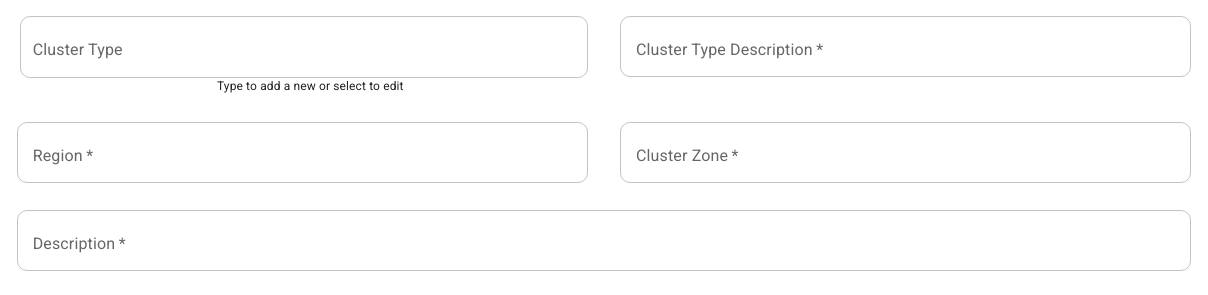
Test: ClustersForm Component › handles AutoCompleteSelect changes and updates form fields
// Simulate selecting a cluster
Type "Cluster 1" into the dropdown at {"x": 289, "y": 59}, box top-left (29, 40), bottom-right (549, 78)
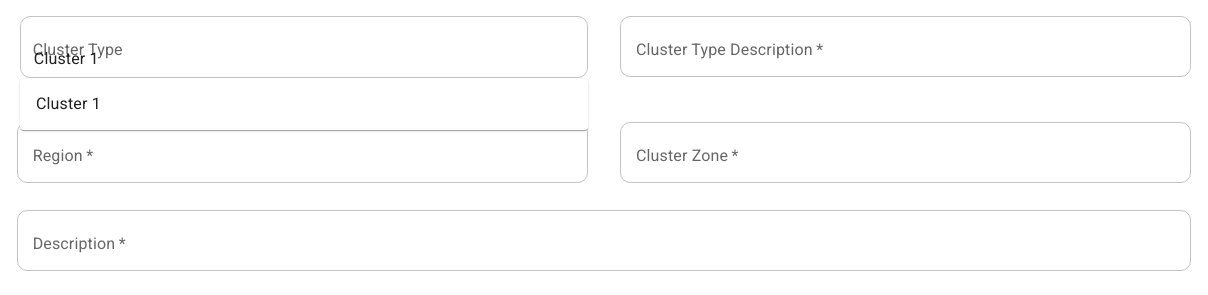
Click the option "Cluster 1" at {"x": 68, "y": 104}, box top-left (36, 94), bottom-right (101, 113)
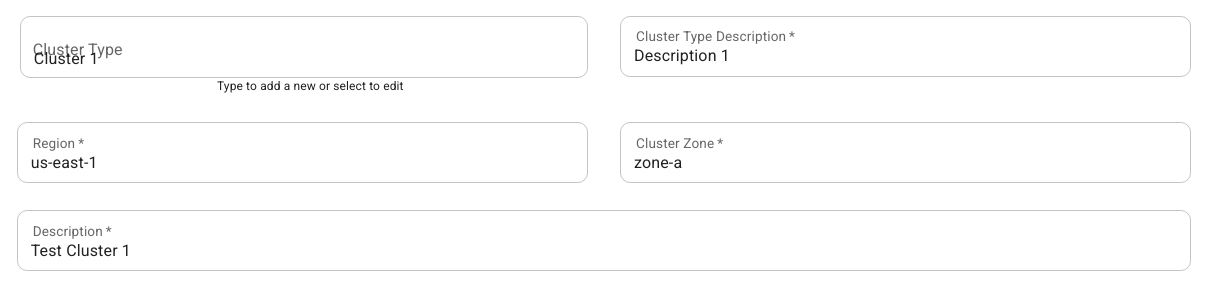
Expected: the field showing "us-east-1" is shown, top-left (17, 135), bottom-right (588, 191)
Expected: the field showing "zone-a" is shown, top-left (620, 135), bottom-right (1191, 191)
Expected: the field showing "Test Cluster 1" is shown, top-left (17, 223), bottom-right (1191, 279)
